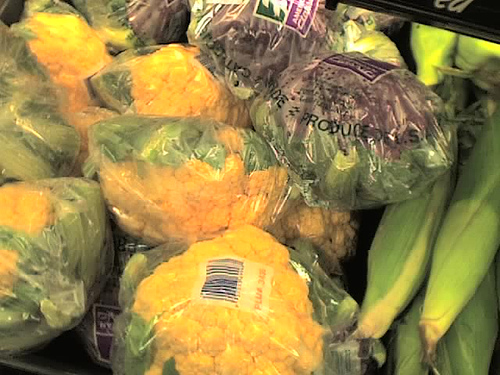cauliflower: (130, 221, 326, 374), (88, 114, 289, 249)
